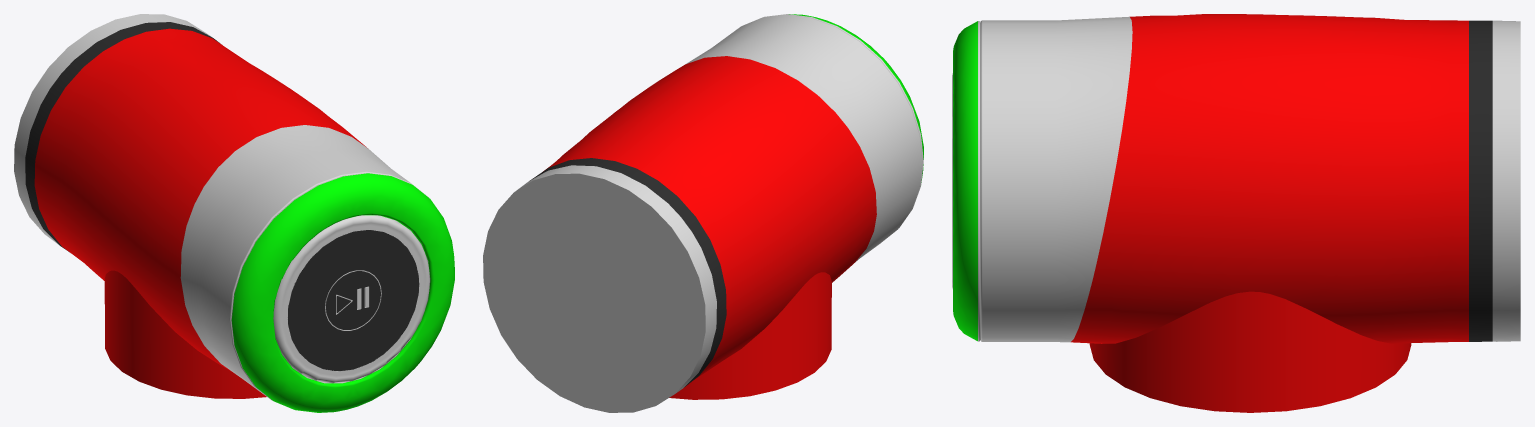
3 renders of one model, left to right at view 1: azimuth 30°, elevation 25°; view 2: azimuth 150°, elevation 25°; view 3: azimuth 270°, elevation 25°, orthographic. The views are drawn at different scales.
Parts seen in each view (by area): view 1: Zu 7 05, Zu 7 007; view 2: Zu 7 05; view 3: Zu 7 05.
Boxes of the visible parts, left/top/right/bottom form: Zu 7 05: left=14, top=14, right=454, bottom=412; Zu 7 007: left=288, top=230, right=419, bottom=370; Zu 7 05: left=483, top=14, right=923, bottom=412; Zu 7 05: left=952, top=14, right=1520, bottom=412.
Bounding box in the file's own units: 0.0843 × 0.1431 × 0.0877.
